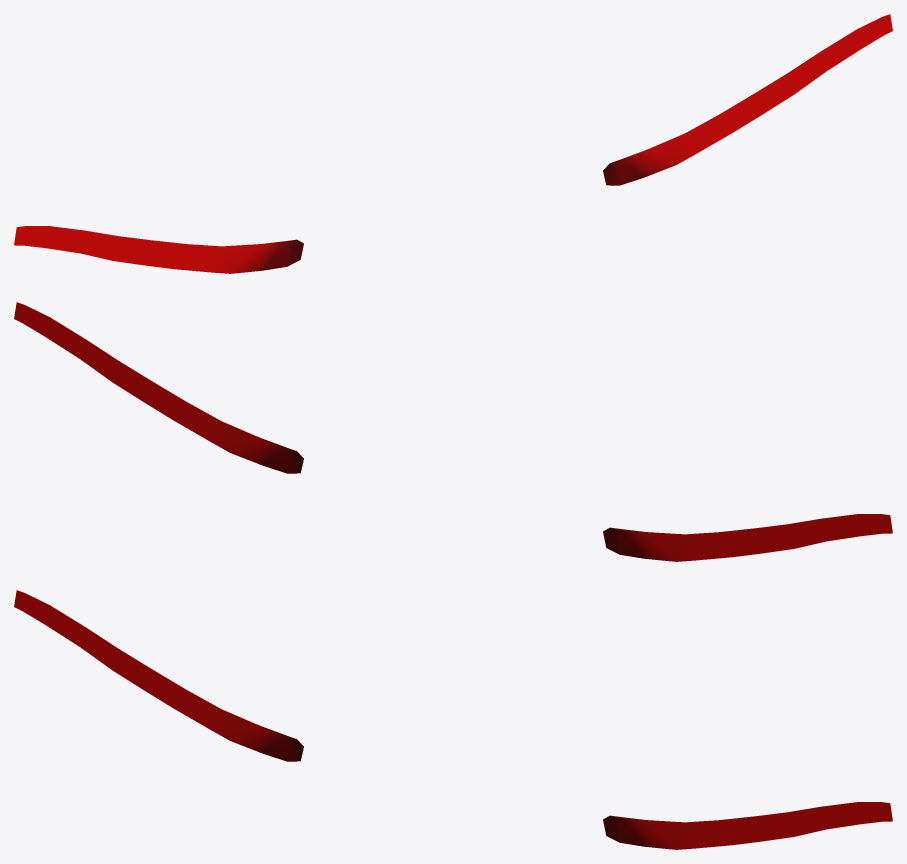
The model's file is frame181.fbx.
3 views of the same model, one above another, from view 1: azimuth 30°, elevation 25°; view 2: azimuth 150°, elevation 25°; view 3: azimuth 330°, elevation 25° (orthographic).
Parts seen in each view (by area): view 1: MaterialLayer; view 2: MaterialLayer; view 3: MaterialLayer.
Part boxes in pixels (left/top/right/bottom): MaterialLayer: left=14, top=14, right=892, bottom=273; MaterialLayer: left=14, top=302, right=892, bottom=561; MaterialLayer: left=14, top=590, right=892, bottom=849.
Size of the model in its own units: 1540 by 177 by 0.
